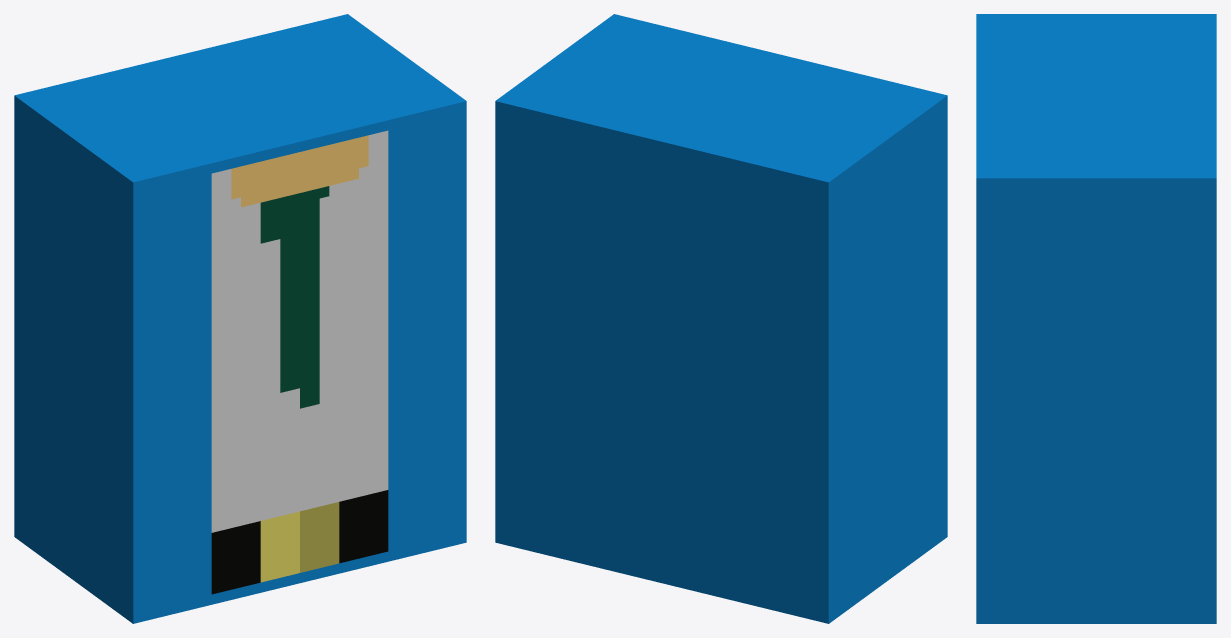
Rendered from officeman2-0.obj.
3 renders of one model, left to right at view 1: azimuth 30°, elevation 25°; view 2: azimuth 150°, elevation 25°; view 3: azimuth 270°, elevation 25°, orthographic.
Bounding box in the file's own units: 3.4 × 4.3 × 2.1.
Materials: 1 (1 with a texture image).
